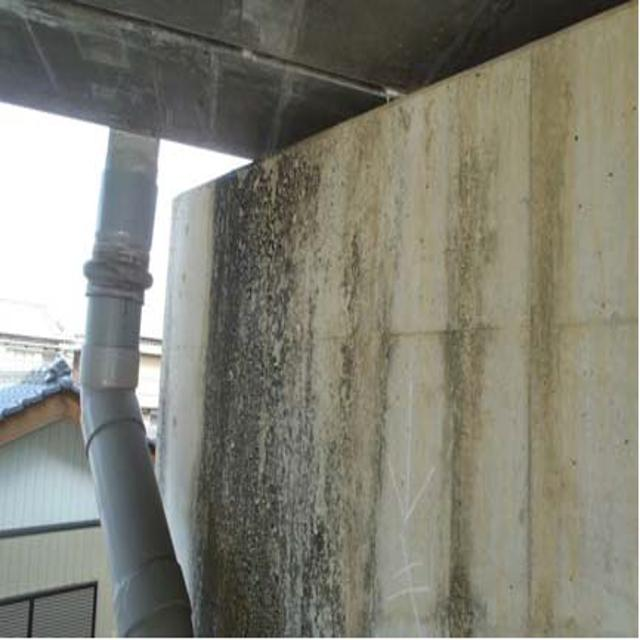leakage: (221, 155, 351, 640)
